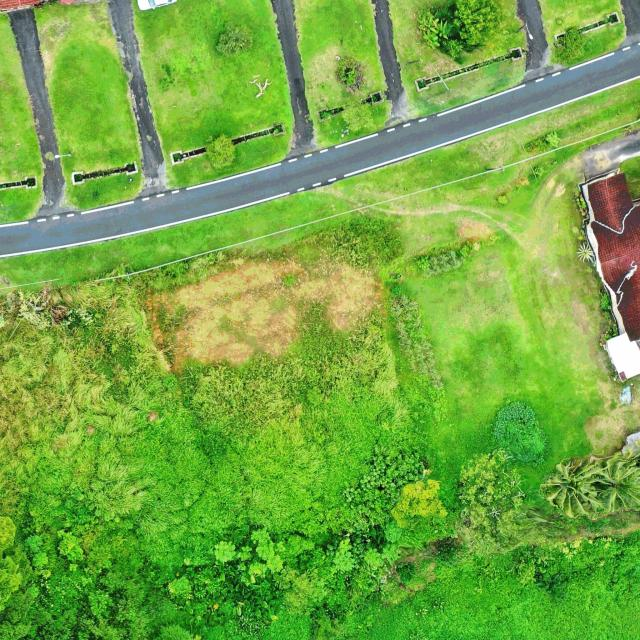Tree: (541, 457, 601, 516), (595, 451, 640, 511), (453, 0, 502, 49), (552, 27, 586, 68), (205, 134, 236, 170), (216, 27, 251, 58)
